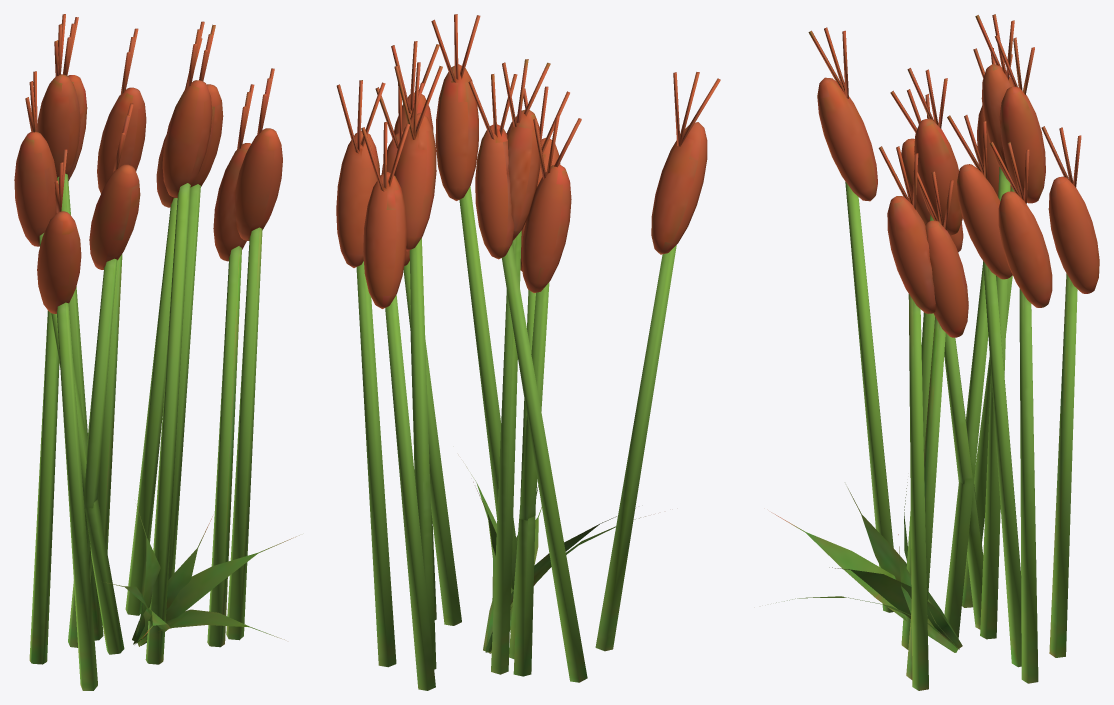
The model's file is crop_quinoa.glb.
3 views of the same model, side by side, from view 1: azimuth 30°, elevation 25°; view 2: azimuth 150°, elevation 25°; view 3: azimuth 270°, elevation 25° (orthographic). The views are drawn at different scales.
Parts seen in each view (by area): view 1: crop_quinoa, fruit; view 2: crop_quinoa, fruit; view 3: crop_quinoa, fruit.
Part boxes in pixels (<box>): crop_quinoa: <box>29,173,299,690</box>; fruit: <box>14,14,282,313</box>; crop_quinoa: <box>356,186,676,690</box>; fruit: <box>336,14,720,308</box>; crop_quinoa: <box>771,167,1077,690</box>; fruit: <box>808,14,1099,337</box>.
Size of the model in its own units: 0.2041 by 0.4404 by 0.2293.
1 material, 1 textured.
